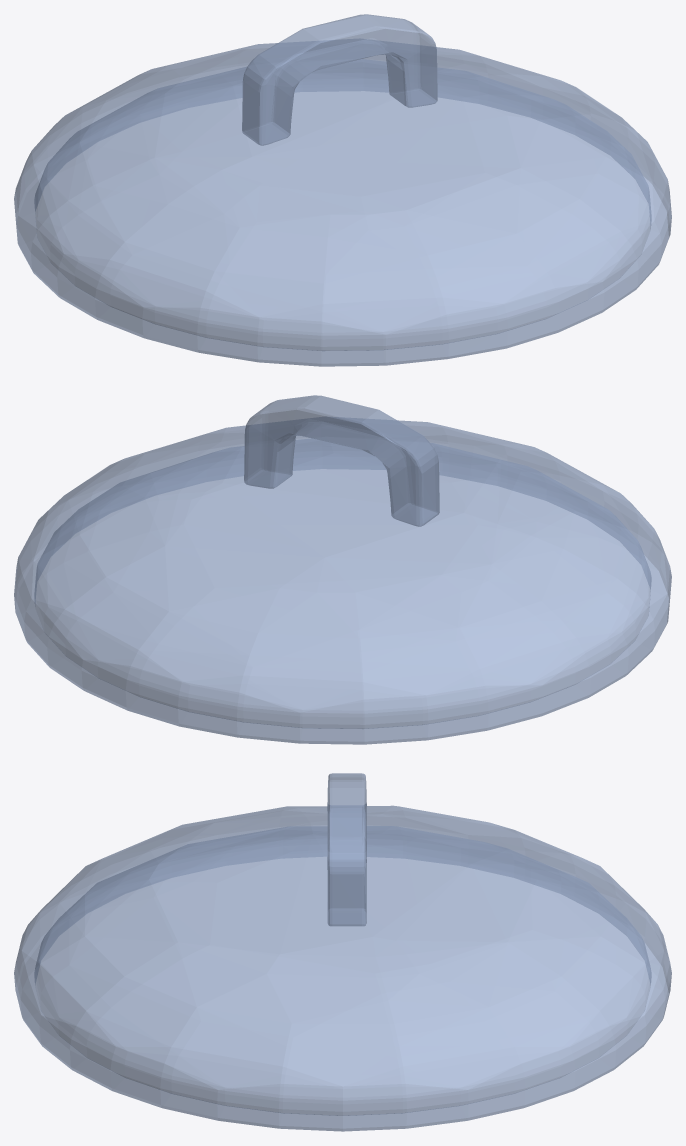
The model's file is lid_lg.dae.
3 renders of one model, top to bottom at view 1: azimuth 30°, elevation 25°; view 2: azimuth 150°, elevation 25°; view 3: azimuth 270°, elevation 25°, orthographic.
Visible parts, largest first — view 1: Lid; view 2: Lid; view 3: Lid.
Boxes of the visible parts, x1=… form: Lid: x1=14, y1=14, x2=671, y2=366; Lid: x1=14, y1=395, x2=671, y2=744; Lid: x1=14, y1=773, x2=671, y2=1131.
Bounding box in the file's own units: 40.53 × 40.53 × 13.55.
